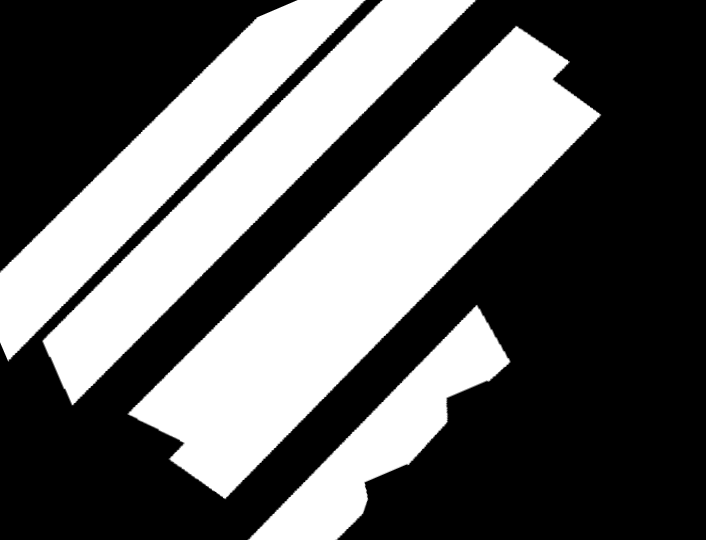parkingspot: (128, 26, 601, 499), (43, 0, 476, 405), (0, 0, 365, 361), (248, 305, 510, 540)
